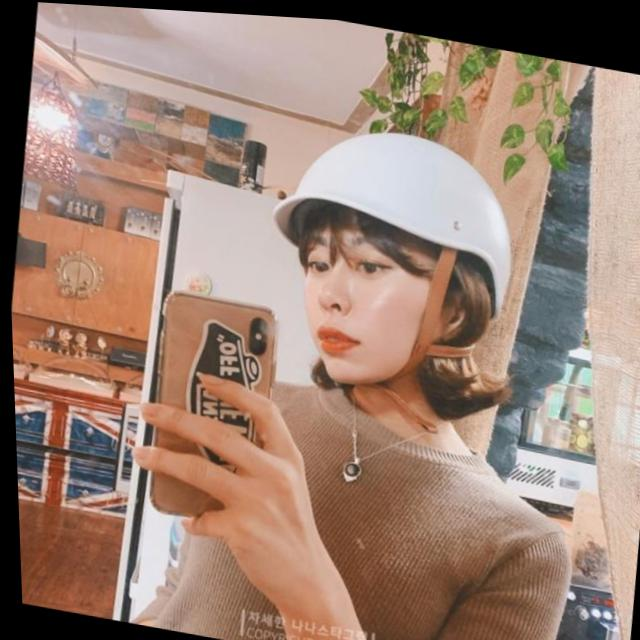helmet: (243, 104, 530, 444)
